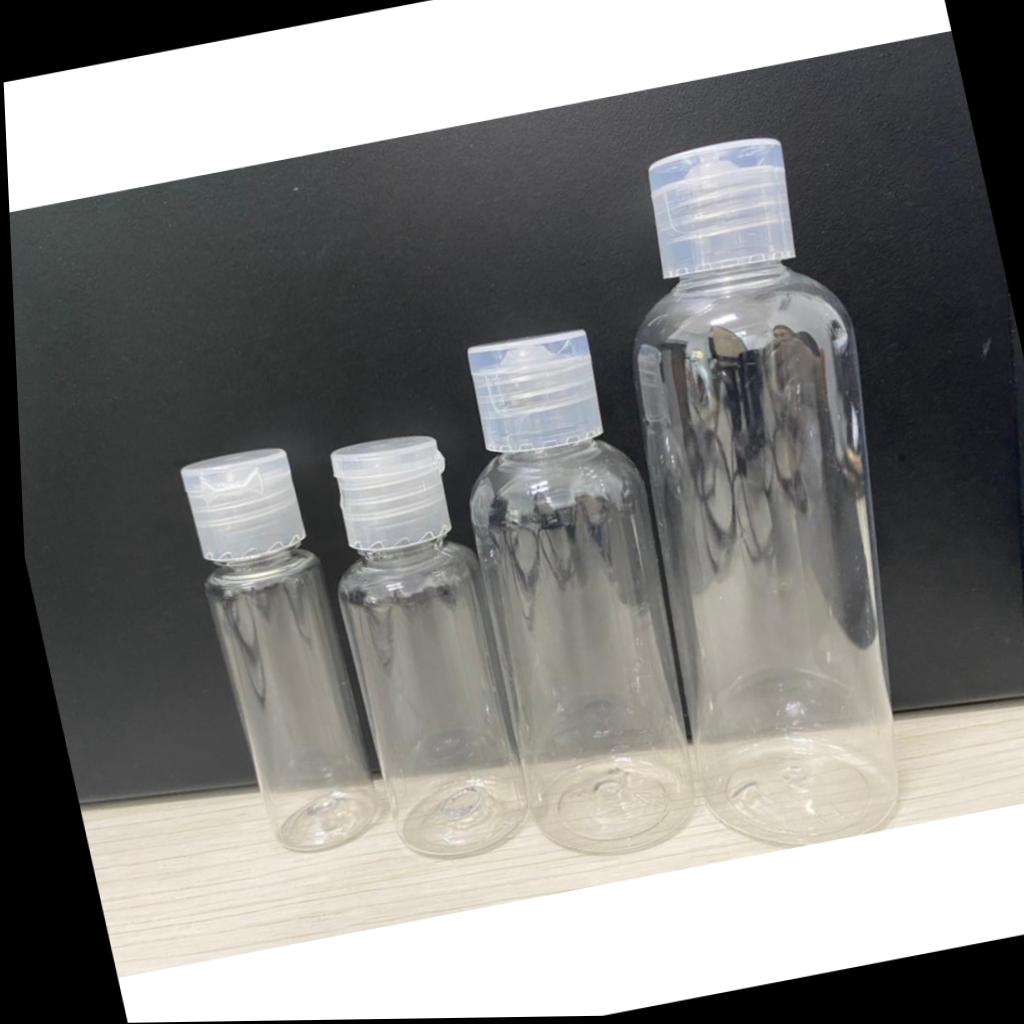plastic: (625, 139, 897, 849), (413, 331, 695, 853), (331, 436, 526, 857), (181, 449, 381, 851)
